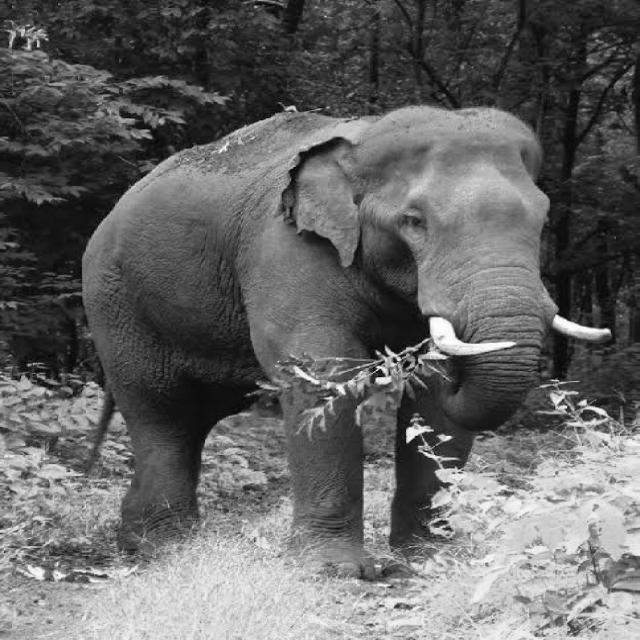Elephant: (78, 103, 612, 580)
